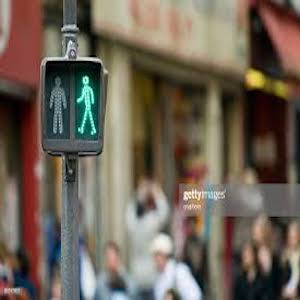green: (73, 78, 101, 141)
